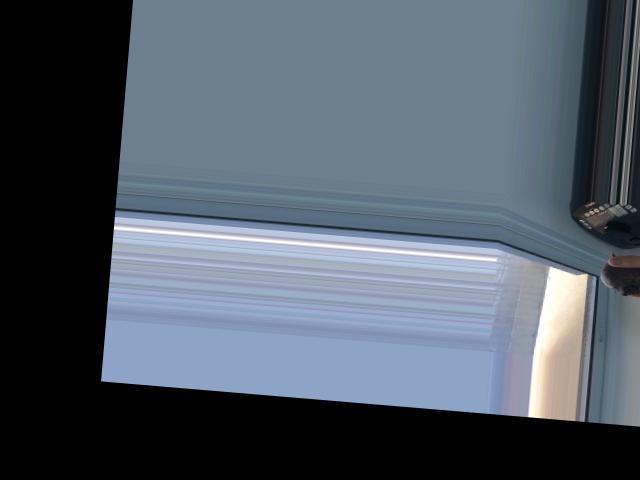beet: (598, 250, 640, 297)
